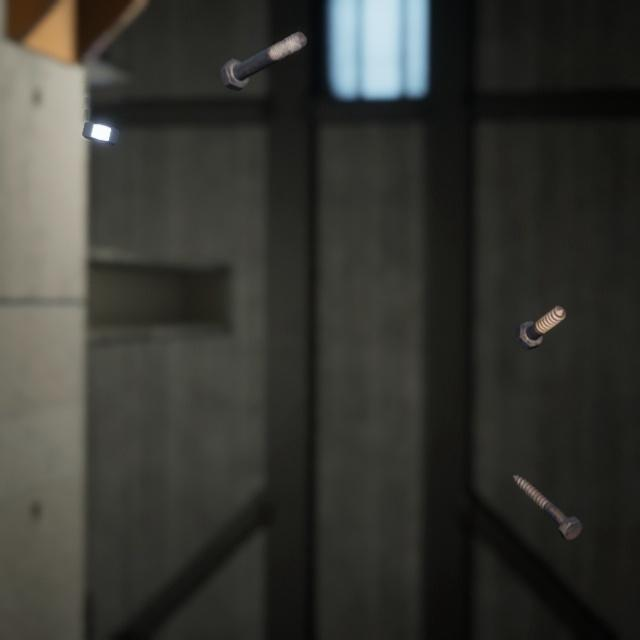bolt: (215, 16, 311, 85), (509, 449, 586, 522), (511, 283, 570, 336)
nut: (77, 105, 124, 136)
